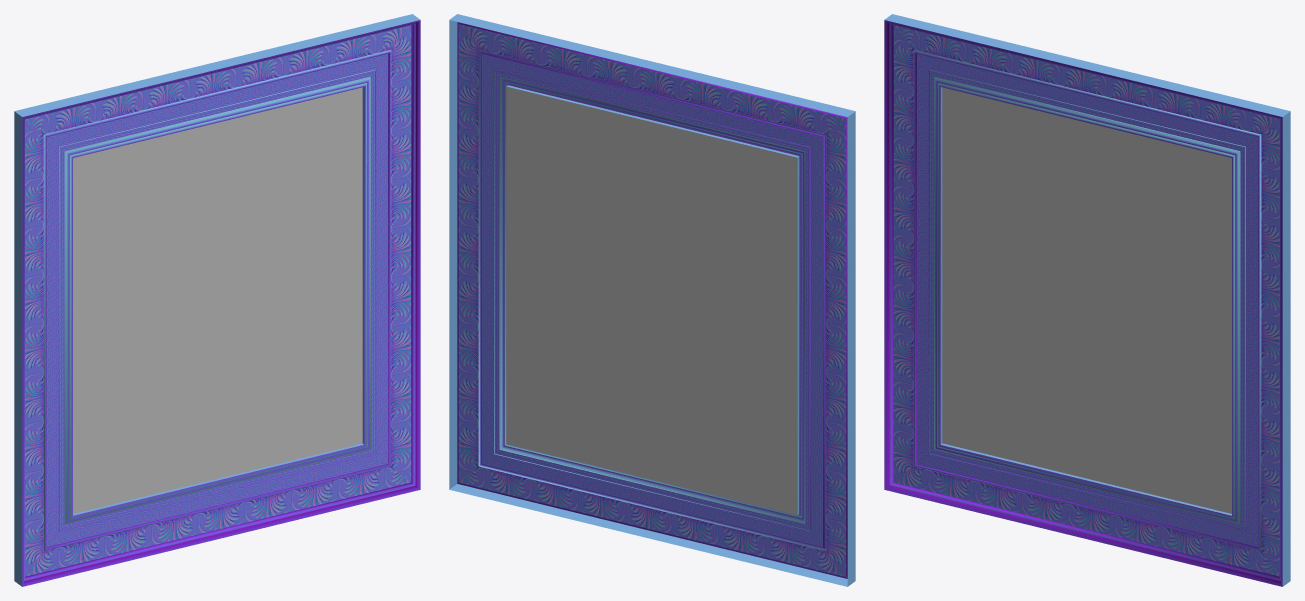
3 renders of one model, left to right at view 1: azimuth 30°, elevation 25°; view 2: azimuth 150°, elevation 25°; view 3: azimuth 330°, elevation 25°, orthographic.
Parts seen in each view (by area): view 1: _14_18, _14_18_frame; view 2: _14_18, _14_18_frame; view 3: _14_18, _14_18_frame.
Part boxes in pixels (left/top/right/bottom): _14_18: left=73, top=87, right=362, bottom=513; _14_18_frame: left=14, top=14, right=420, bottom=586; _14_18: left=506, top=86, right=797, bottom=515; _14_18_frame: left=449, top=14, right=855, bottom=586; _14_18: left=942, top=87, right=1231, bottom=513; _14_18_frame: left=884, top=14, right=1290, bottom=586.
Bounding box in the file's own units: 134 × 151 × 4.73.
